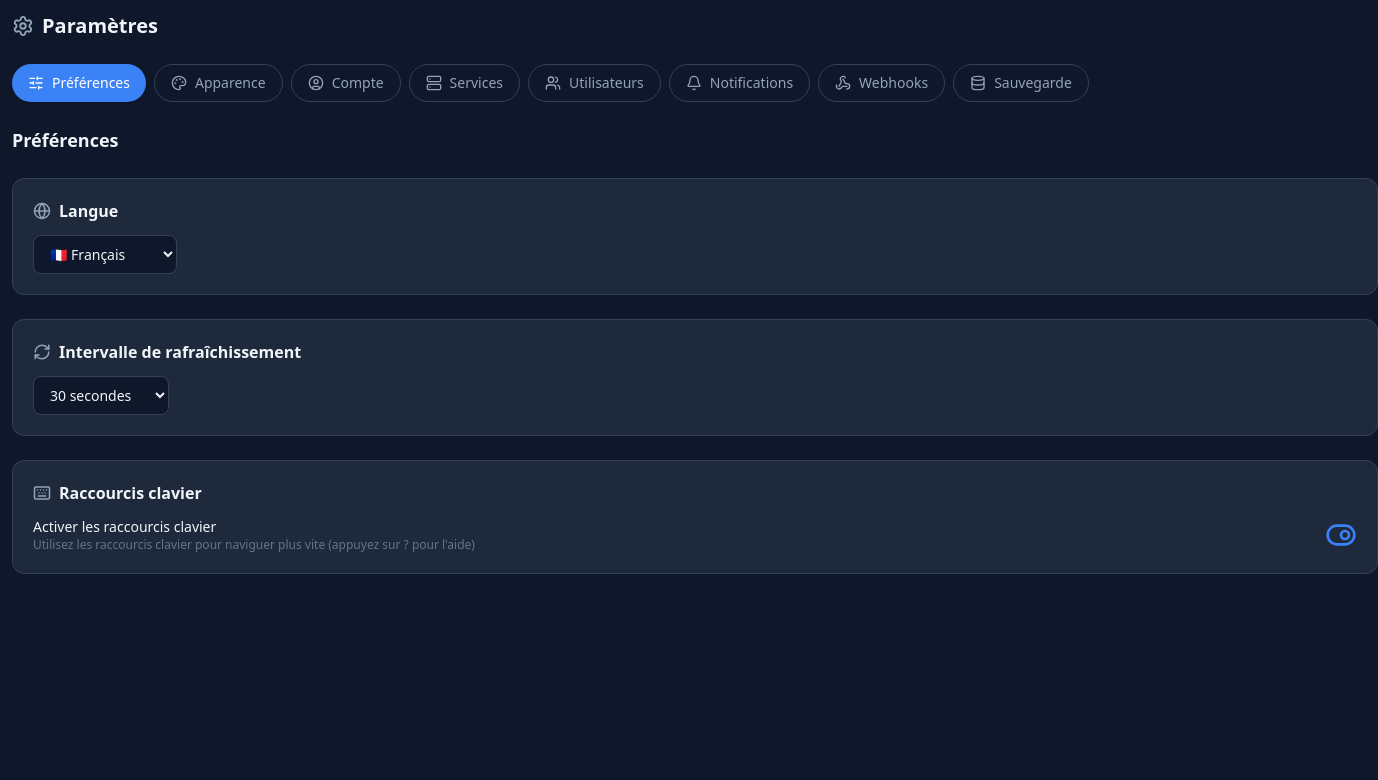
Scenario: SettingsPage › has notifications section in notifications tab
Click the button with test id "settings-pill-notifications" at point(739, 83), box [669,64,810,102]
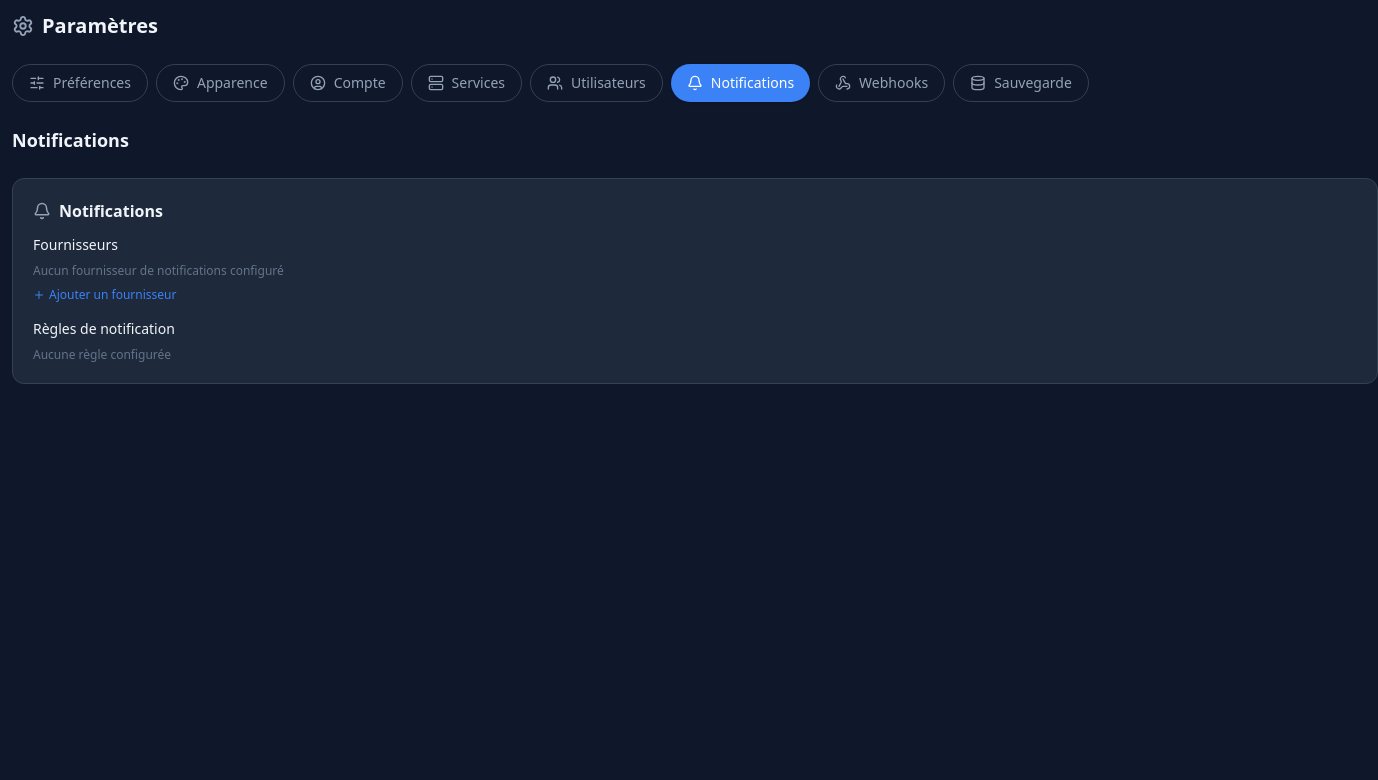
Expected: the element with test id "settings-notifications" is shown, [12,178,1377,384]
